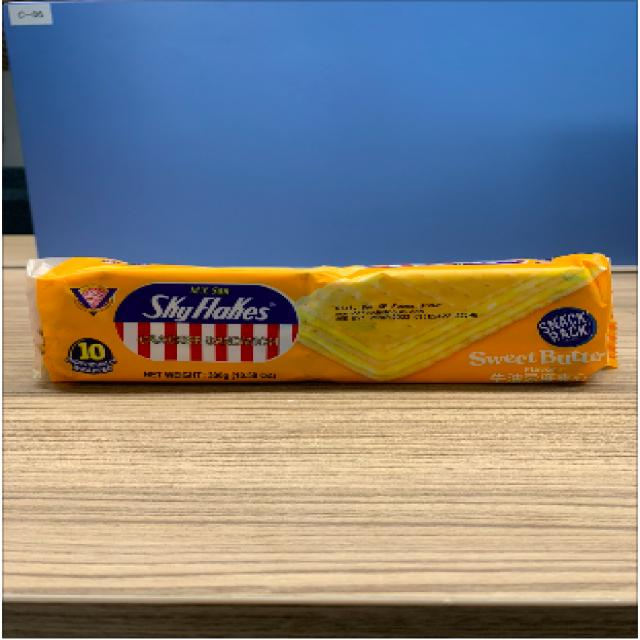object_name: (36, 256, 596, 391)
